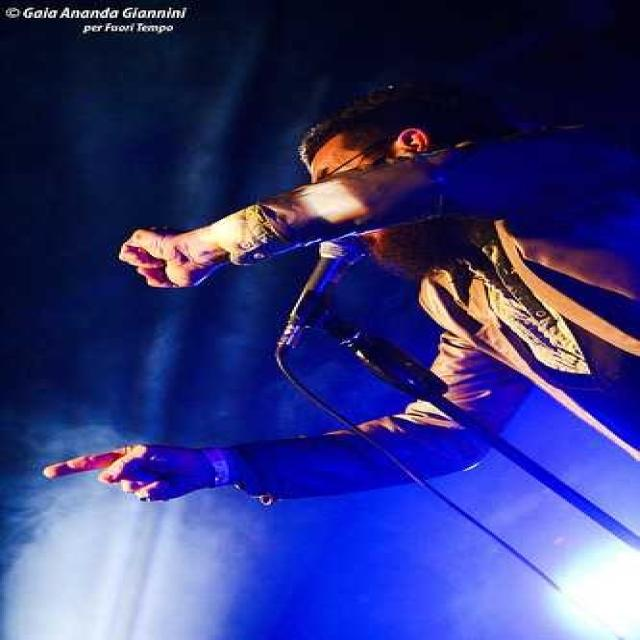microphone: (288, 239, 360, 331)
